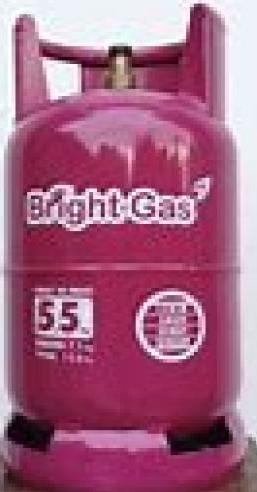cylinder: (1, 1, 257, 492)
